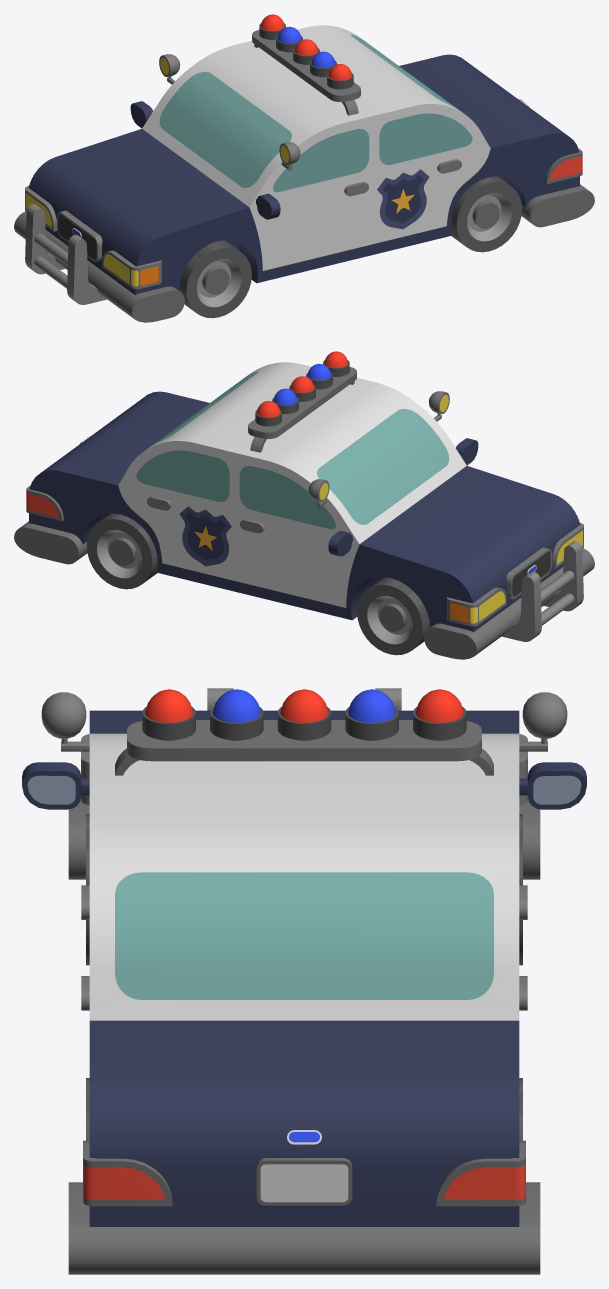
Rendered from Police Car.fbx.
3 renders of one model, top to bottom at view 1: azimuth 30°, elevation 25°; view 2: azimuth 150°, elevation 25°; view 3: azimuth 270°, elevation 25°, orthographic. The views are drawn at different scales.
Parts seen in each view (by area): view 1: Police Car, Wheel, Wheel.001; view 2: Police Car, Wheel, Wheel.001; view 3: Police Car, Wheel.
Boxes of the visible parts, x1,y1,x2,y2 form: Police Car: (14,14,594,322); Wheel: (179,240,251,318); Wheel.001: (451,176,522,252); Police Car: (14,351,594,659); Wheel: (357,577,429,655); Wheel.001: (86,513,157,589); Police Car: (22,688,586,1274); Wheel: (86,814,522,965).
Size of the model in its own units: 794 by 316 by 399.
